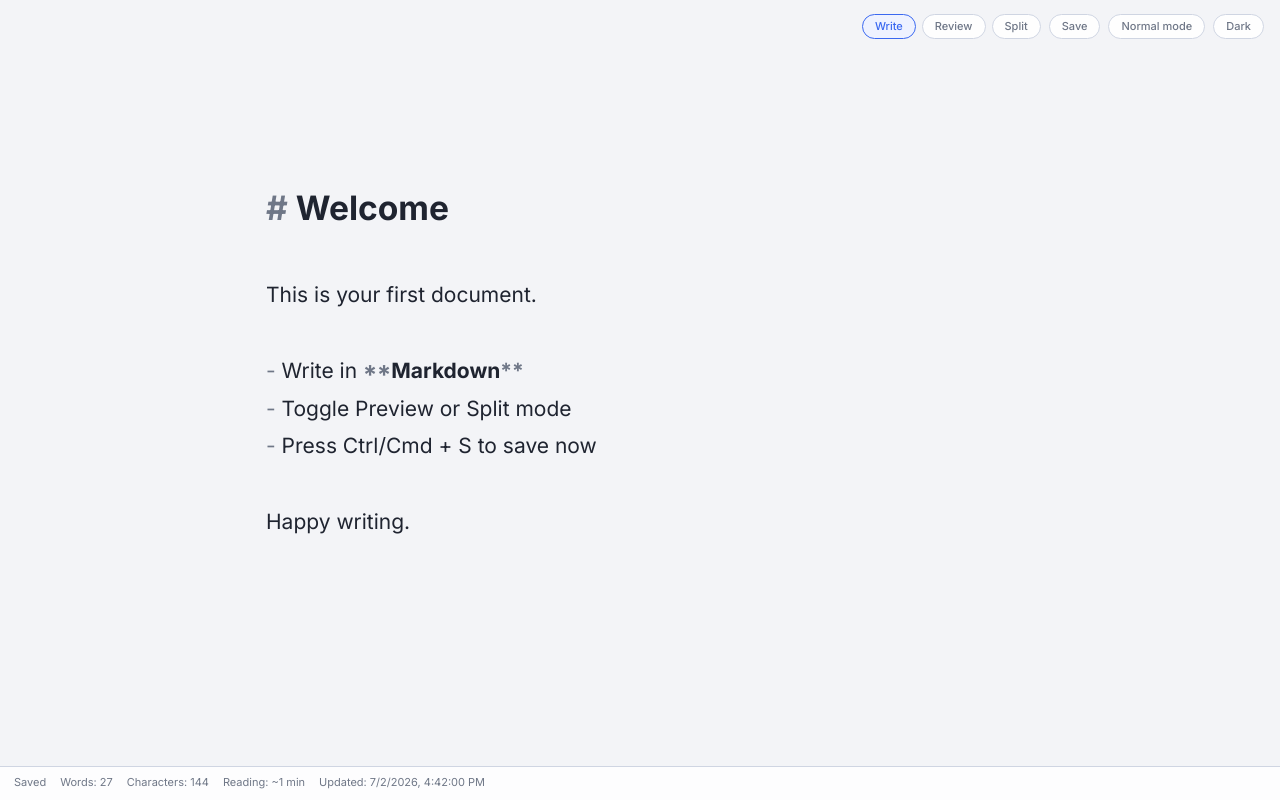
App — view mode switching (focus controls) › hides editor in preview mode
Click the button "Review" at [954, 26], box [922, 14, 986, 39]
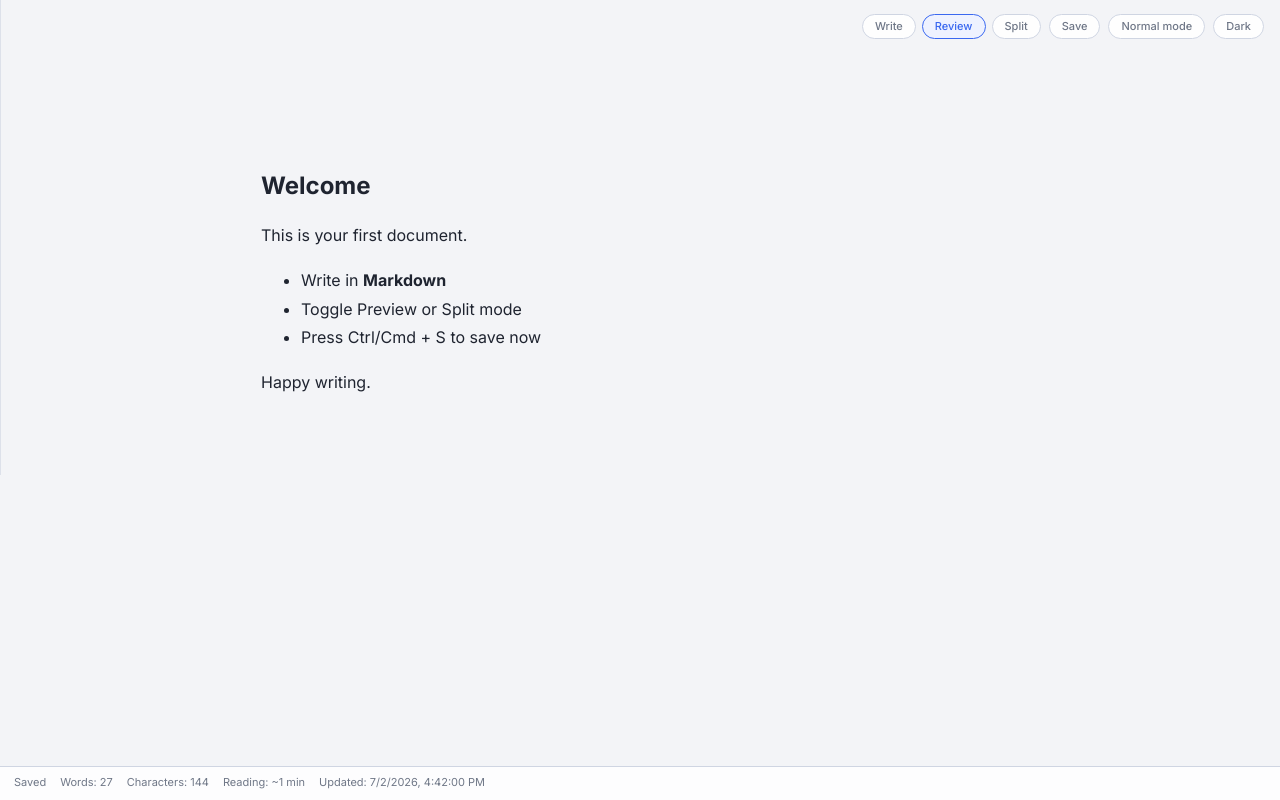
Expected: the field is gone
